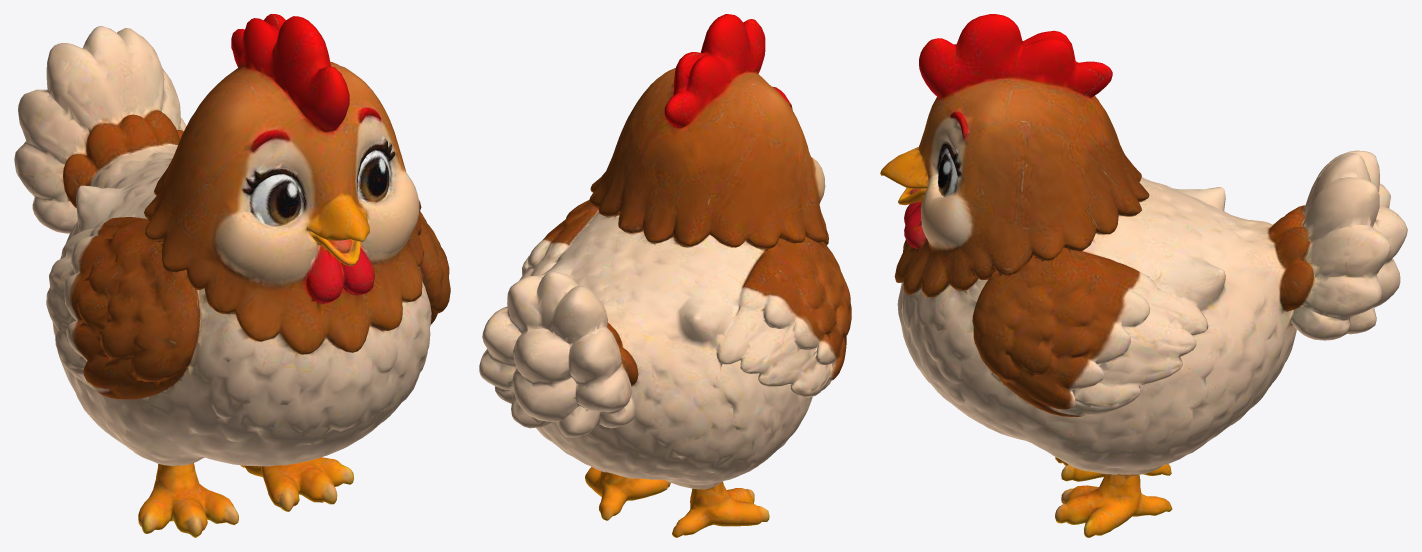
3 renders of one model, left to right at view 1: azimuth 30°, elevation 25°; view 2: azimuth 150°, elevation 25°; view 3: azimuth 270°, elevation 25°, orthographic. The views are drawn at different scales.
Bounding box in the file's own units: 1.34 × 1.9 × 1.9.
Materials: 1 (1 with a texture image).
